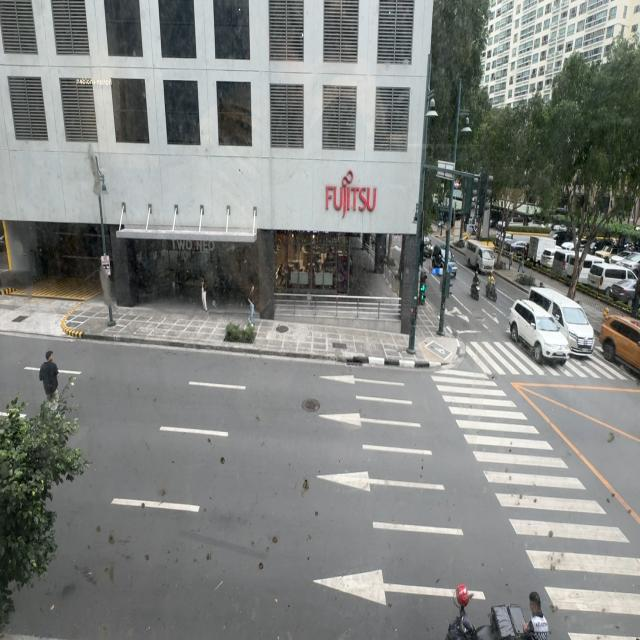jaywalking: (38, 352, 58, 404)
pedestrain: (247, 285, 255, 328), (201, 276, 207, 312), (517, 251, 525, 274)
